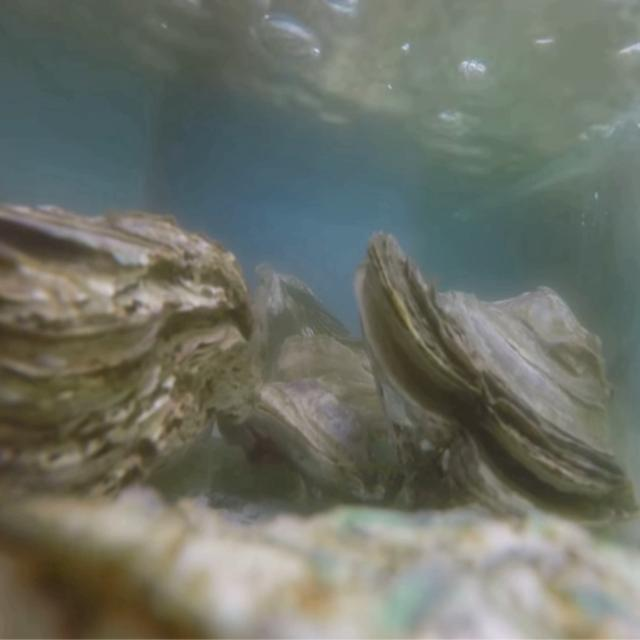Oyster-Closed: (0, 202, 255, 530), (255, 329, 414, 507)
Oyster-Indeterminate: (0, 486, 640, 640)
Oyster-Open: (356, 233, 640, 542)
